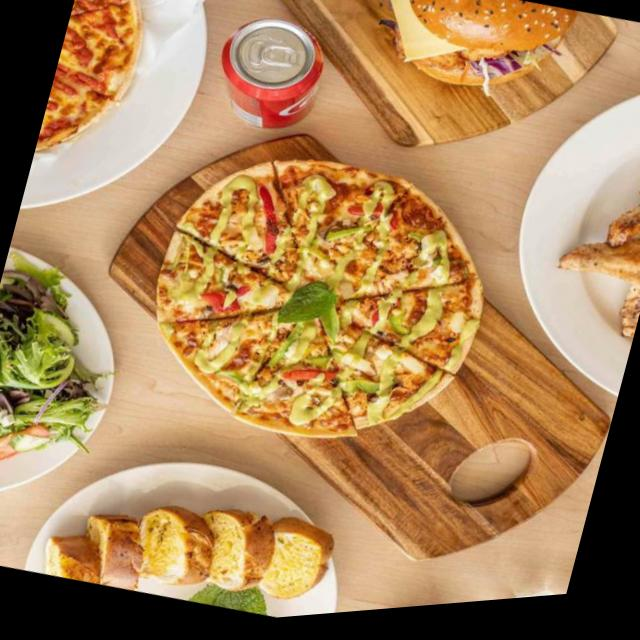burger: (353, 0, 574, 127)
pizza: (122, 117, 513, 491), (32, 0, 169, 176)
